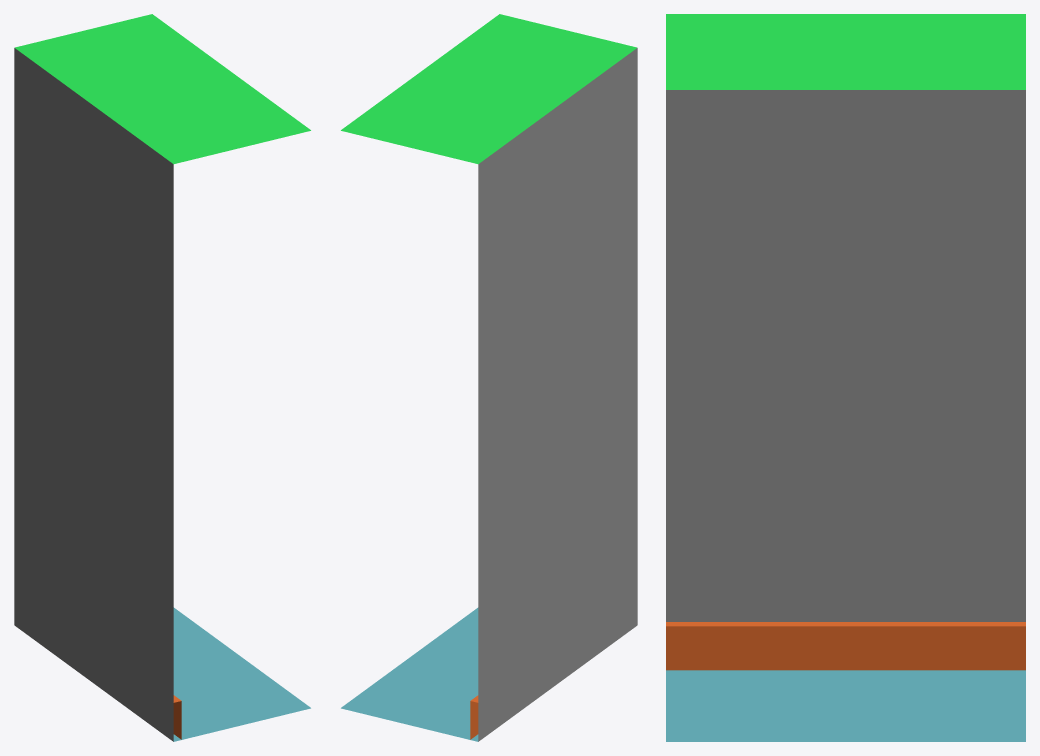
Rendered from ModuleC_side04.FBX.
3 renders of one model, left to right at view 1: azimuth 30°, elevation 25°; view 2: azimuth 150°, elevation 25°; view 3: azimuth 270°, elevation 25°, orthographic. The views are drawn at different scales.
Visible parts, largest first — view 1: ModuleC_wall_09, ModuleC_roof_08, ModuleC_floor_08; view 2: ModuleC_wall_09, ModuleC_roof_08, ModuleC_floor_08; view 3: ModuleC_wall_09, ModuleC_roof_08, ModuleC_floor_08, ModuleC_skboard_05.
Boxes of the visible parts, bbox=[...] form: ModuleC_wall_09: bbox=[14, 48, 173, 741]; ModuleC_roof_08: bbox=[15, 14, 310, 164]; ModuleC_floor_08: bbox=[173, 607, 310, 741]; ModuleC_wall_09: bbox=[478, 48, 637, 741]; ModuleC_roof_08: bbox=[341, 14, 636, 164]; ModuleC_floor_08: bbox=[341, 607, 478, 741]; ModuleC_wall_09: bbox=[666, 90, 1025, 621]; ModuleC_roof_08: bbox=[666, 14, 1025, 89]; ModuleC_floor_08: bbox=[666, 670, 1025, 741]; ModuleC_skboard_05: bbox=[666, 622, 1025, 670].
Bounding box in the file's own units: 19.69 × 39.37 × 78.74.
